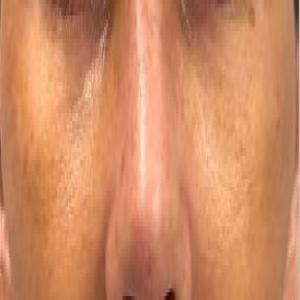Oily-Skin: (99, 0, 207, 300)
